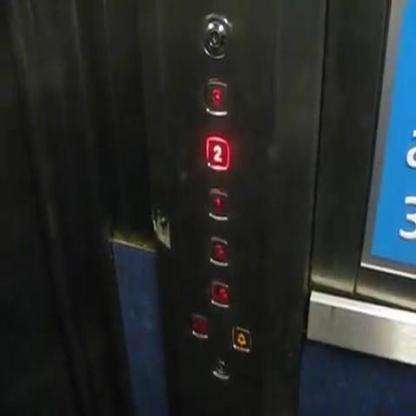2: (203, 132, 231, 172)
3: (201, 74, 229, 118)
alarm: (230, 322, 252, 354)
blur: (206, 184, 230, 222), (207, 232, 229, 268), (208, 275, 230, 308), (188, 310, 209, 340)
keyhole: (195, 9, 232, 60), (210, 353, 230, 380)
